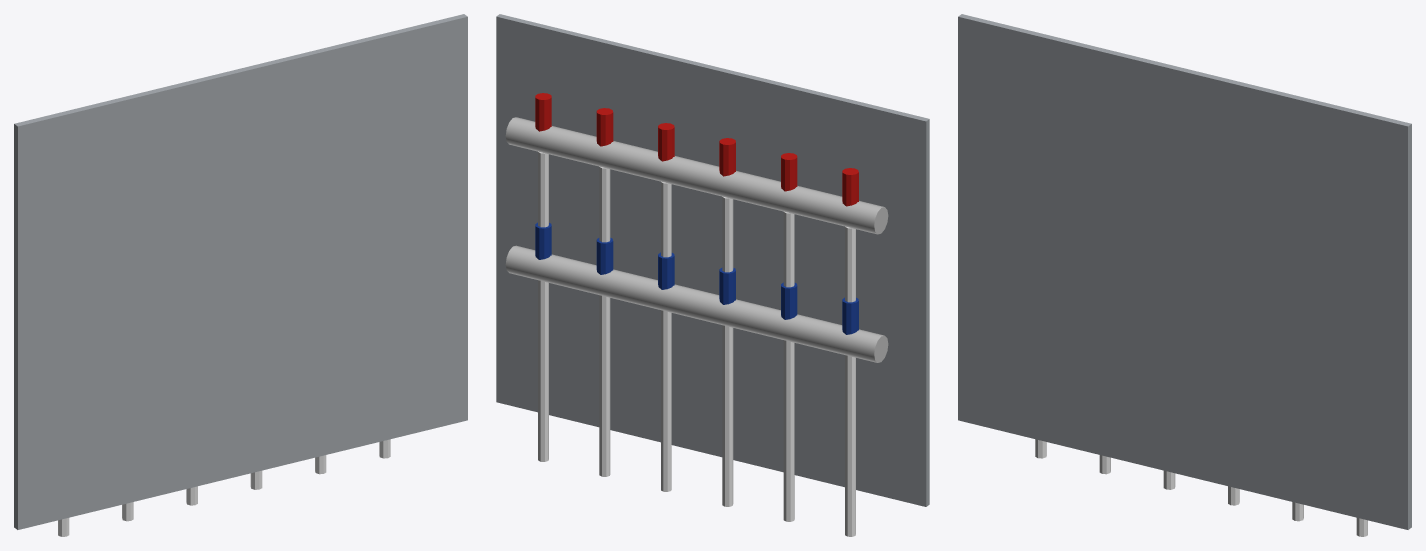
The model's file is services.heating.underfloor_manifold.glb.
3 views of the same model, side by side, from view 1: azimuth 30°, elevation 25°; view 2: azimuth 150°, elevation 25°; view 3: azimuth 330°, elevation 25° (orthographic). The views are drawn at different scales.
Visible parts, largest first — view 1: main__steel_galvanised, main__plastic_white; view 2: main__steel_galvanised, main__steel_stainless, main__plastic_white, main__plastic_red, main__plastic_blue; view 3: main__steel_galvanised, main__plastic_white.
Part boxes in pixels (left/top/right/bottom): main__steel_galvanised: left=14, top=14, right=467, bottom=529; main__plastic_white: left=58, top=439, right=390, bottom=536; main__steel_galvanised: left=496, top=14, right=929, bottom=506; main__steel_stainless: left=505, top=117, right=888, bottom=362; main__plastic_white: left=538, top=151, right=855, bottom=536; main__plastic_red: left=535, top=93, right=858, bottom=206; main__plastic_blue: left=535, top=222, right=858, bottom=334; main__steel_galvanised: left=958, top=14, right=1411, bottom=529; main__plastic_white: left=1035, top=439, right=1367, bottom=536.
Size of the model in its own units: 0.7 by 0.65 by 0.07.
